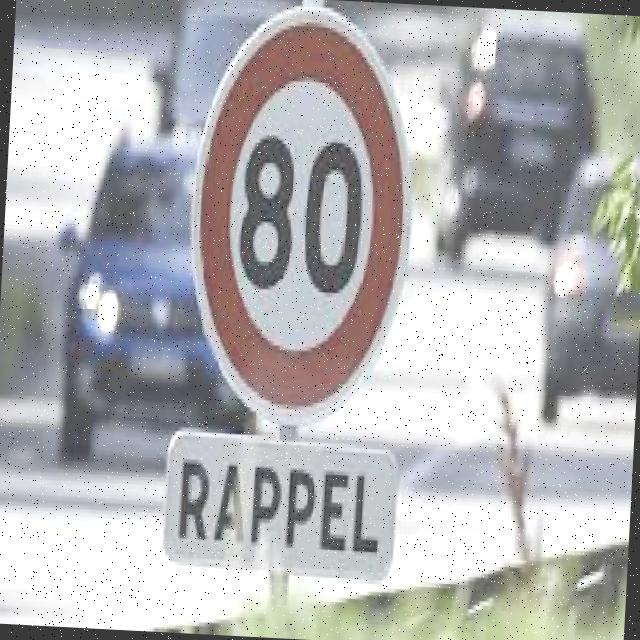Ograniczenie predkosci do 80: (206, 58, 392, 391)
